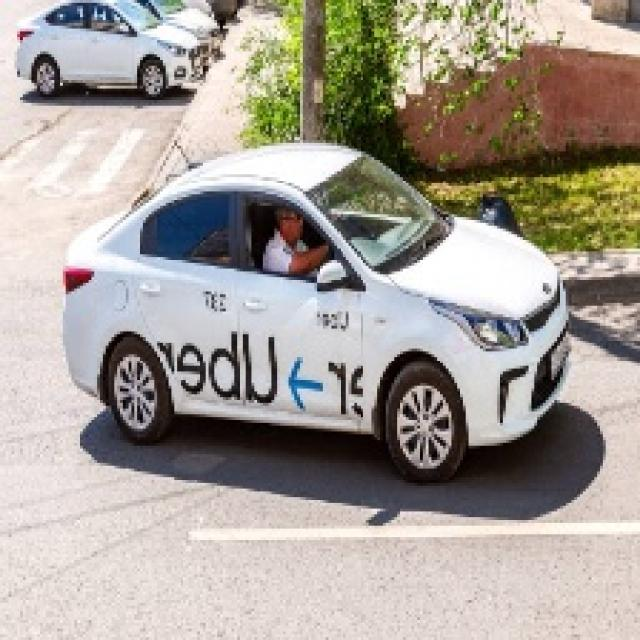car: (45, 154, 579, 467), (4, 8, 204, 106)
